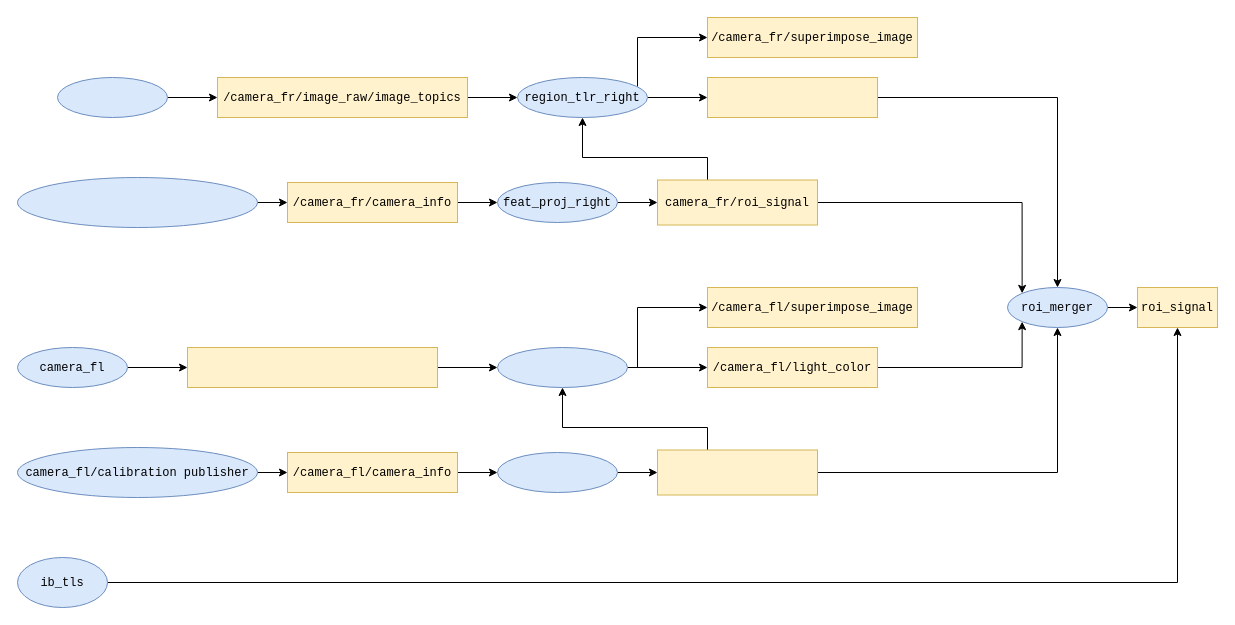
Some shapes in this 1235 by 625 pixel diagram are drawn without their labels. Each missing label, with the centre of its shape:
"/camera_fl/image_raw/image_topics" belongs at (x=312, y=367).
"/camera_fr/light_color" belongs at (x=792, y=97).
"camera_fl/roi_signal" belongs at (x=737, y=472).
"camera_fr" belongs at (x=112, y=97).
"camera_fr/calibration publisher" belongs at (x=137, y=202).
"feat_proj_left" belongs at (x=557, y=472).
"region_tlr_left" belongs at (x=562, y=367).
